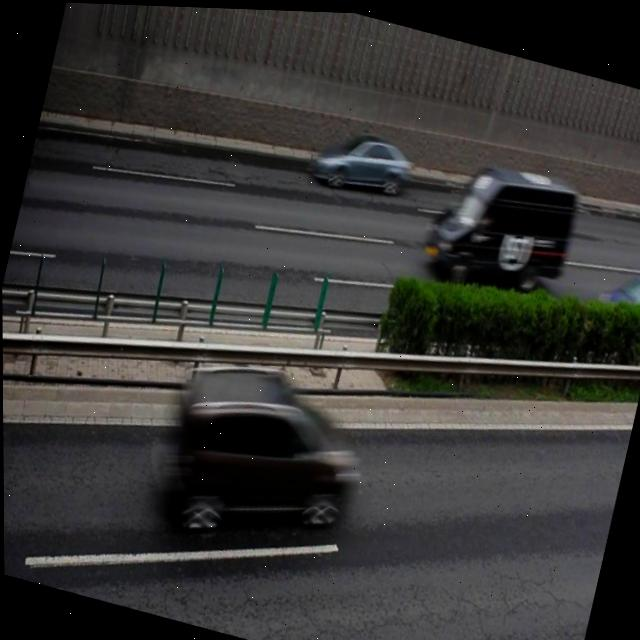car: (155, 347, 375, 564), (309, 115, 416, 203), (581, 249, 640, 348)
truck: (417, 144, 582, 302)
